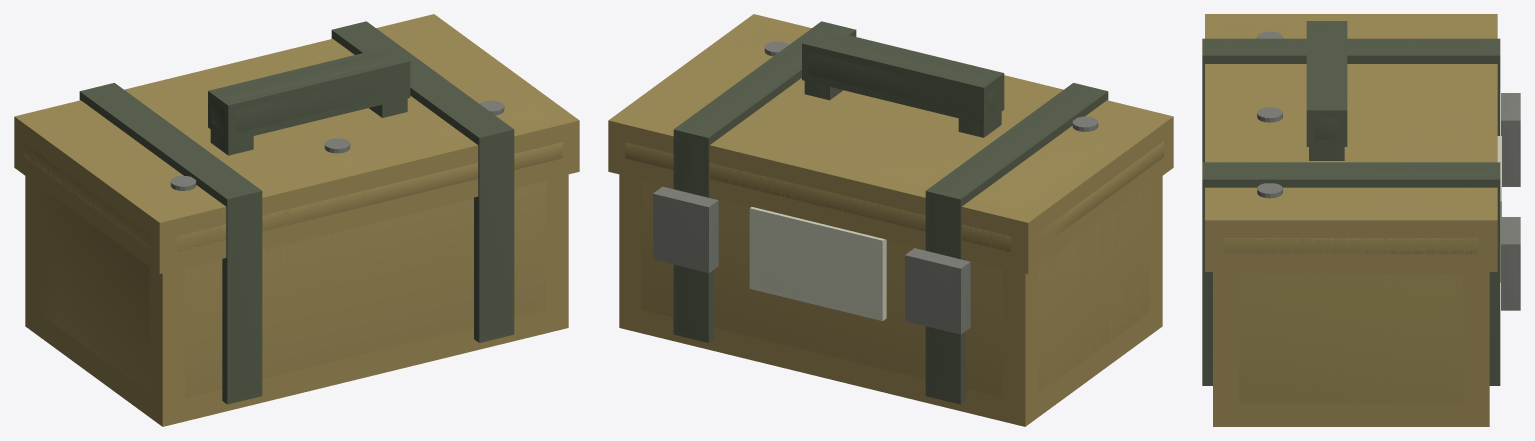
File: RepairKit.glb
3 views of the same model, side by side, from view 1: azimuth 30°, elevation 25°; view 2: azimuth 150°, elevation 25°; view 3: azimuth 270°, elevation 25° (orthographic).
Parts seen in each view (by area): view 1: LOD1_SupplyKit, LOD0_SupplyKit, LOD1_GearStrap, LOD0_GearStrap, LOD0_GearSteel; view 2: LOD1_SupplyKit, LOD0_SupplyKit, LOD1_GearStrap, LOD0_GearStrap, LOD1_SupplyLabel, LOD1_GearSteel, LOD0_SupplyLabel, LOD0_GearSteel; view 3: LOD1_SupplyKit, LOD0_SupplyKit, LOD1_GearStrap, LOD0_GearStrap, LOD0_GearSteel, LOD1_GearSteel, LOD1_SupplyLabel.
Part boxes in pixels (<box>): LOD1_SupplyKit: <box>14,14,579,426</box>; LOD0_SupplyKit: <box>24,25,562,397</box>; LOD1_GearStrap: <box>79,21,514,404</box>; LOD0_GearStrap: <box>82,24,510,398</box>; LOD0_GearSteel: <box>170,100,504,190</box>; LOD1_SupplyKit: <box>608,14,1173,426</box>; LOD0_SupplyKit: <box>625,25,1163,397</box>; LOD1_GearStrap: <box>673,21,1108,404</box>; LOD0_GearStrap: <box>677,24,1105,397</box>; LOD1_SupplyLabel: <box>749,207,886,320</box>; LOD1_GearSteel: <box>653,186,970,334</box>; LOD0_SupplyLabel: <box>753,213,879,316</box>; LOD0_GearSteel: <box>655,41,1098,330</box>; LOD1_SupplyKit: <box>1205,14,1497,426</box>; LOD0_SupplyKit: <box>1224,22,1478,403</box>; LOD1_GearStrap: <box>1202,21,1500,385</box>; LOD0_GearStrap: <box>1207,24,1495,381</box>; LOD0_GearSteel: <box>1257,31,1517,307</box>; LOD1_GearSteel: <box>1501,93,1520,310</box>; LOD1_SupplyLabel: <box>1497,136,1501,282</box>.
Size of the model in its own units: 0.3 by 0.1775 by 0.1955.
